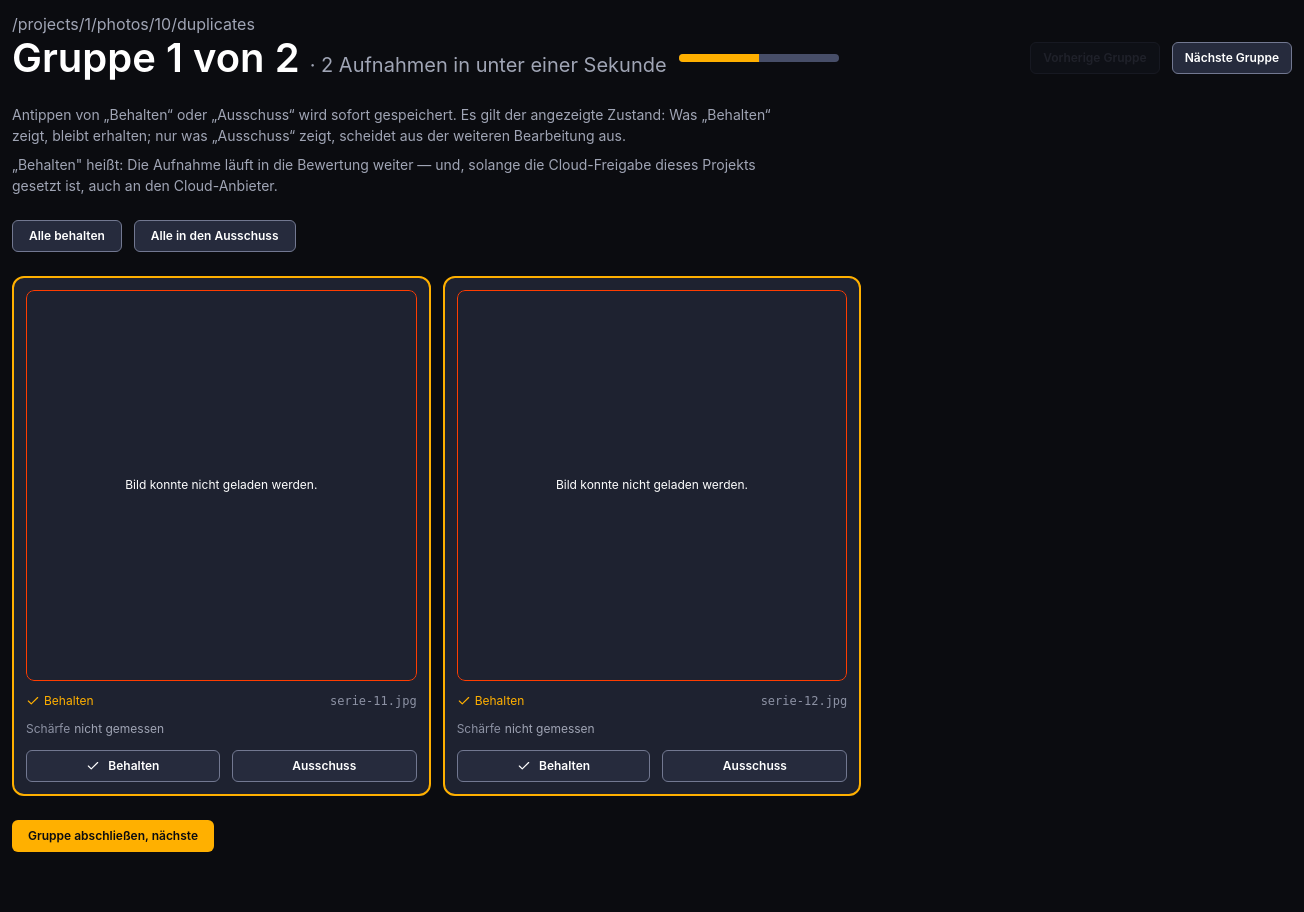
DuplicateComparePage - die Gruppennavigation › bleibt WAEHREND DES LADENS der Nachbargruppe stehen
Click the button "Nächste Gruppe".
click(1232, 58)  # box [1172, 42, 1292, 74]
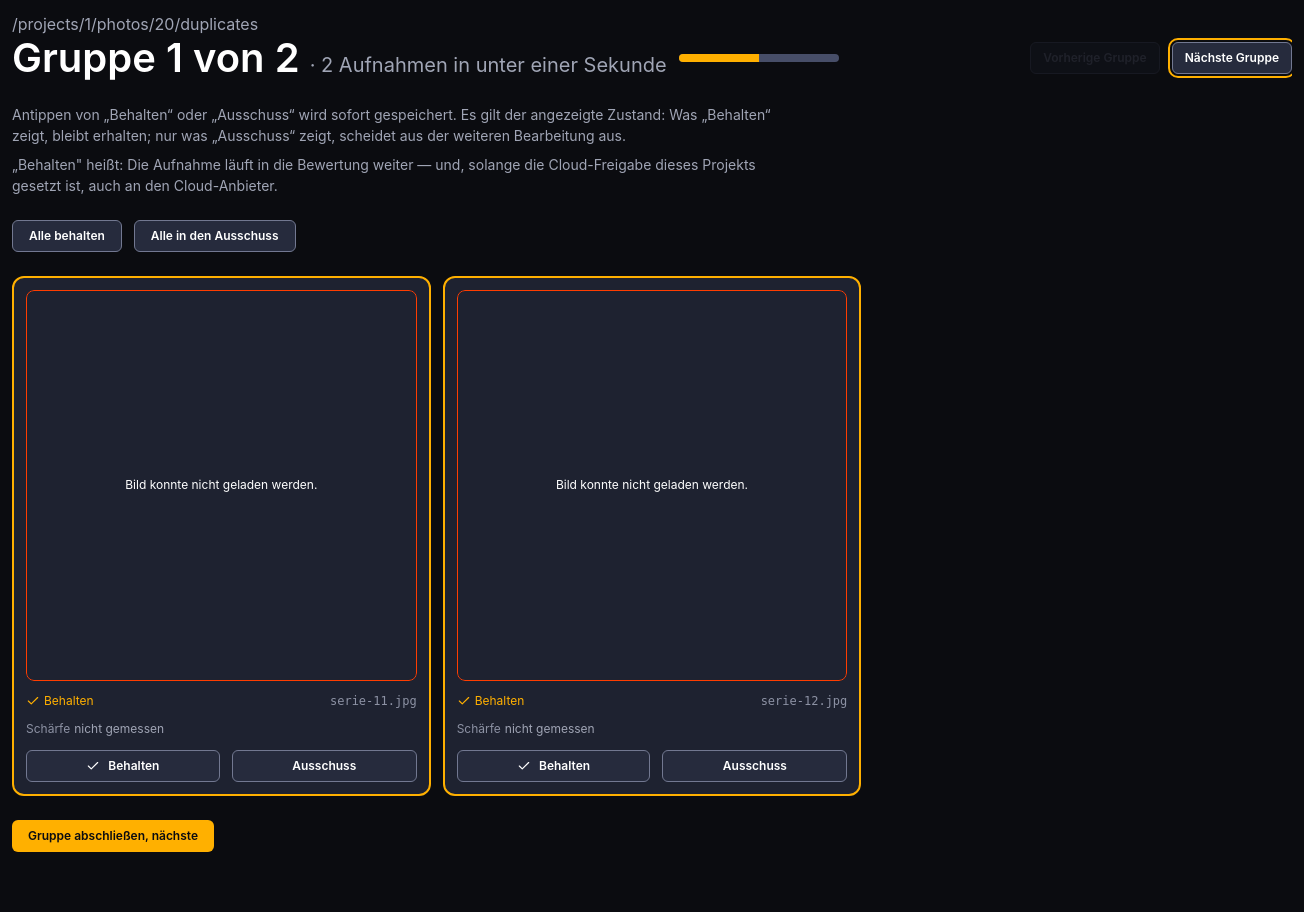
Expected: the button "Vorherige Gruppe" is shown, [1030, 42, 1160, 74]
Result: the text with test id "pfad" shows "/photos/20/" at [12, 14, 258, 34]
